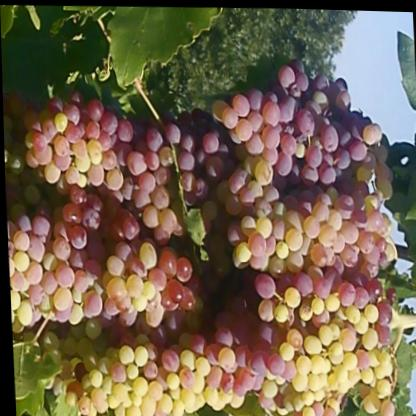grape: (1, 31, 416, 416)
